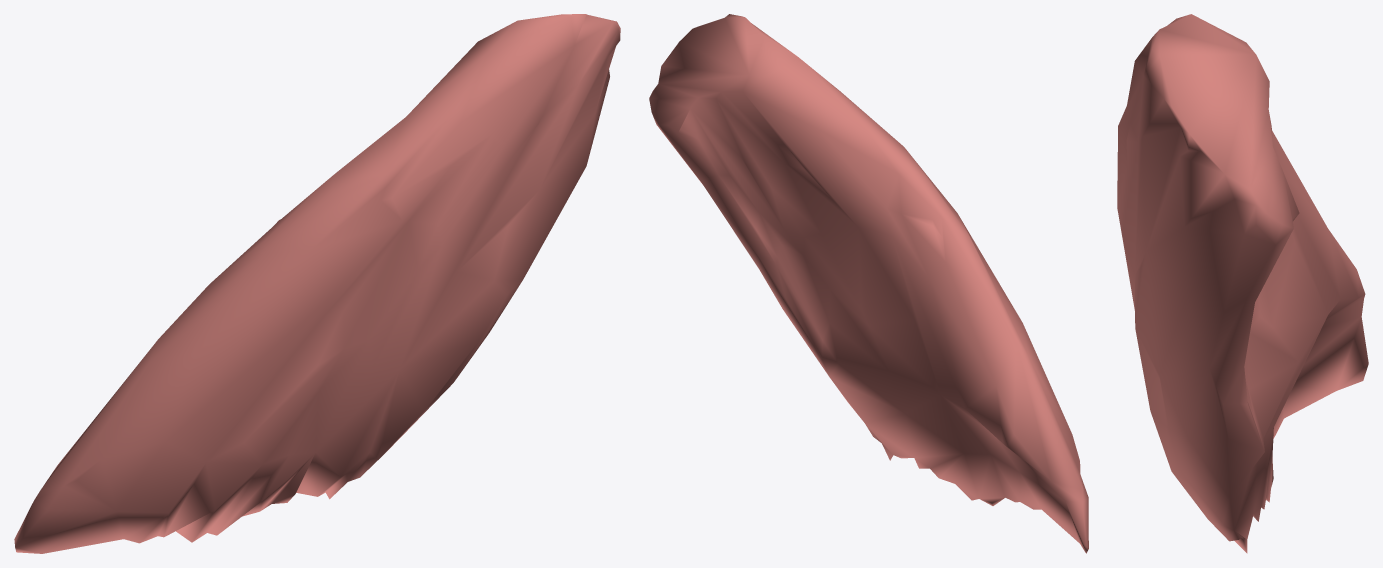
3 renders of one model, left to right at view 1: azimuth 30°, elevation 25°; view 2: azimuth 150°, elevation 25°; view 3: azimuth 270°, elevation 25°, orthographic. The views are drawn at different scales.
Visible parts, largest first — view 1: ZA_9af49805a8e313fc; view 2: ZA_9af49805a8e313fc; view 3: ZA_9af49805a8e313fc.
Boxes of the visible parts, x1=… form: ZA_9af49805a8e313fc: x1=14, y1=14, x2=620, y2=553; ZA_9af49805a8e313fc: x1=649, y1=14, x2=1088, y2=553; ZA_9af49805a8e313fc: x1=1117, y1=14, x2=1368, y2=553.
Size of the model in its own units: 0.025 by 0.0204 by 0.00669.
